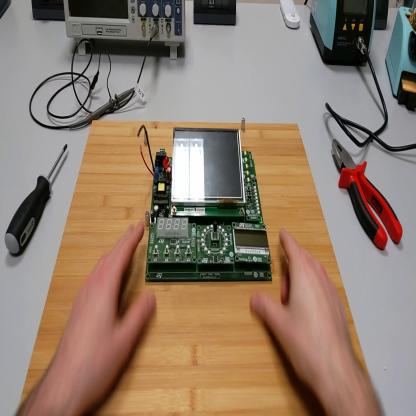hand: (49, 219, 157, 414), (250, 227, 353, 402)
low voltage board: (136, 122, 275, 286)
oscilloscope: (65, 3, 188, 64)
pliers: (331, 137, 404, 253)
screwdriver-: (6, 144, 69, 257)
socket: (32, 3, 64, 27), (375, 4, 389, 31), (1, 4, 13, 20)
welder base: (387, 3, 416, 118)
welder station: (312, 1, 378, 70)
working area: (19, 114, 367, 415)
